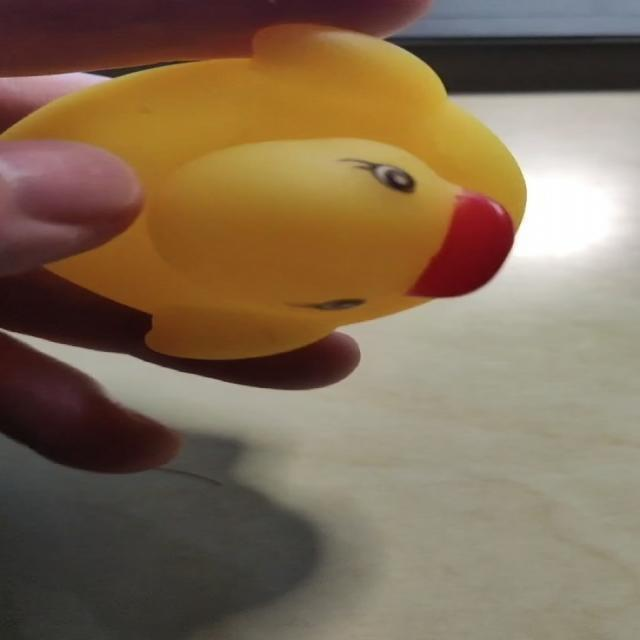rubber-duck: (4, 24, 524, 357)
